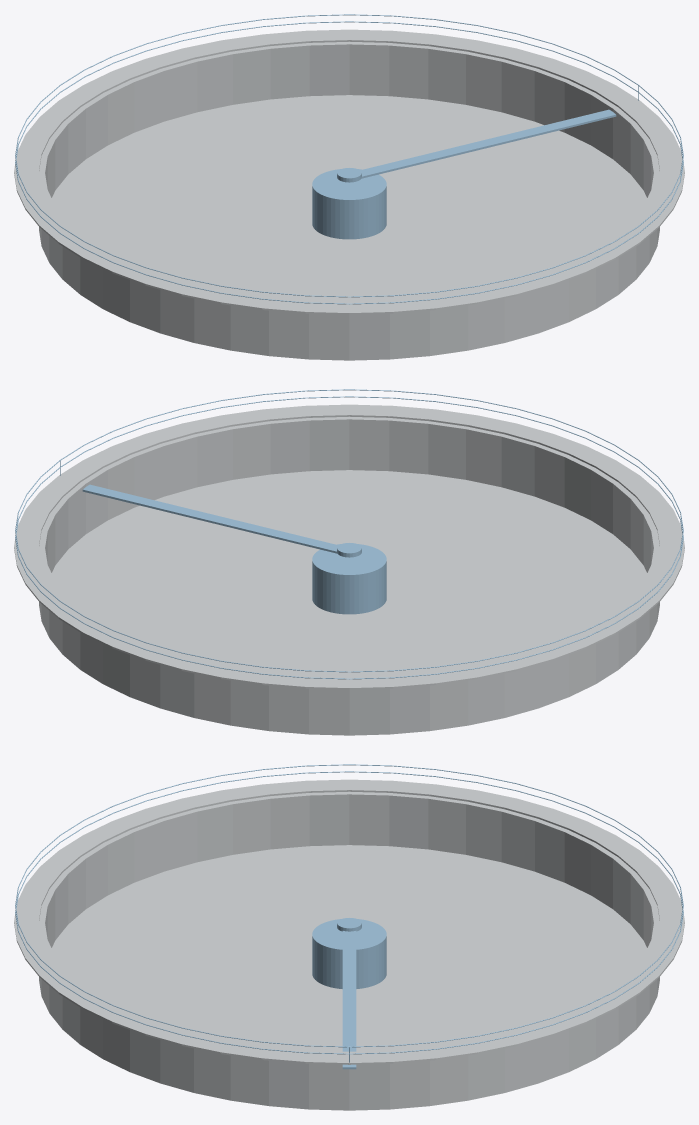
File: clarifier_radial.glb
The picture shows the model from 3 angles, top to bottom: view 1: azimuth 30°, elevation 25°; view 2: azimuth 150°, elevation 25°; view 3: azimuth 270°, elevation 25°; orthographic projection.
Visible parts, largest first — view 1: clarifier__shell__wall, clarifier__trim__walkway, clarifier__equip__center_well, clarifier__equip__bridge, clarifier__trim__handrail_110, clarifier__trim__handrail_60; view 2: clarifier__shell__wall, clarifier__trim__walkway, clarifier__equip__center_well, clarifier__equip__bridge, clarifier__trim__handrail_110, clarifier__trim__handrail_60; view 3: clarifier__shell__wall, clarifier__trim__walkway, clarifier__equip__center_well, clarifier__trim__handrail_110, clarifier__trim__handrail_60, clarifier__equip__bridge.
Part boxes in pixels (x1=…): clarifier__shell__wall: x1=39, y1=41, x2=659, y2=360; clarifier__trim__walkway: x1=14, y1=29, x2=684, y2=314; clarifier__equip__center_well: x1=312, y1=169, x2=386, y2=239; clarifier__equip__bridge: x1=360, y1=109, x2=616, y2=178; clarifier__trim__handrail_110: x1=15, y1=14, x2=683, y2=297; clarifier__trim__handrail_60: x1=15, y1=21, x2=683, y2=304; clarifier__shell__wall: x1=39, y1=416, x2=659, y2=735; clarifier__trim__walkway: x1=14, y1=404, x2=684, y2=689; clarifier__equip__center_well: x1=312, y1=544, x2=386, y2=614; clarifier__equip__bridge: x1=82, y1=484, x2=338, y2=553; clarifier__trim__handrail_110: x1=15, y1=389, x2=683, y2=672; clarifier__trim__handrail_60: x1=15, y1=396, x2=683, y2=679; clarifier__shell__wall: x1=39, y1=791, x2=659, y2=1110; clarifier__trim__walkway: x1=14, y1=779, x2=684, y2=1064; clarifier__equip__center_well: x1=312, y1=919, x2=386, y2=988; clarifier__trim__handrail_110: x1=15, y1=764, x2=683, y2=1047; clarifier__trim__handrail_60: x1=15, y1=771, x2=683, y2=1054; clarifier__equip__bridge: x1=342, y1=931, x2=356, y2=1069.
Bounding box in the file's own units: 43.2 × 5.25 × 43.2.
